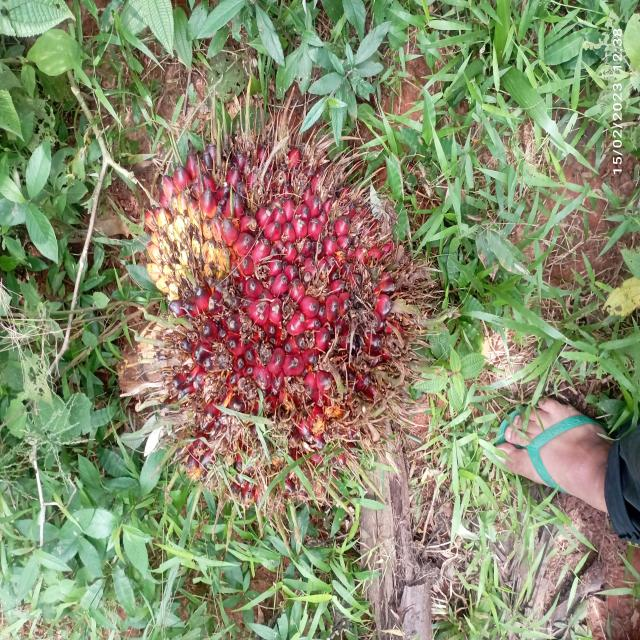fraksi 1: (88, 51, 438, 539)
